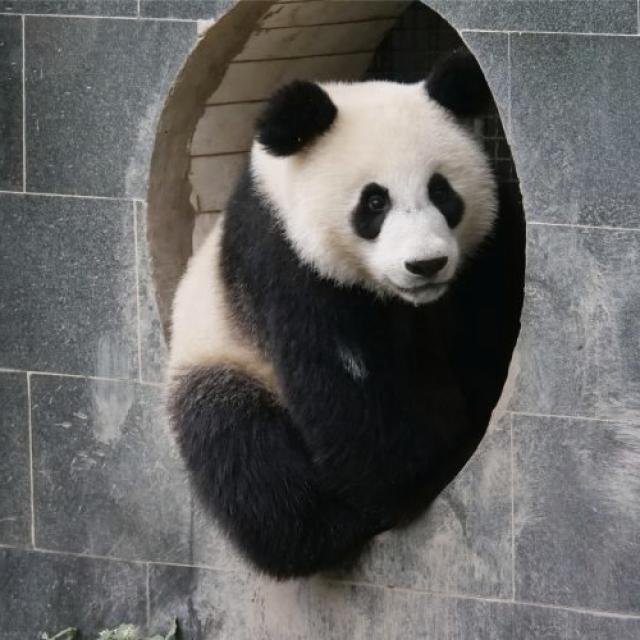panda: (169, 54, 526, 577)
